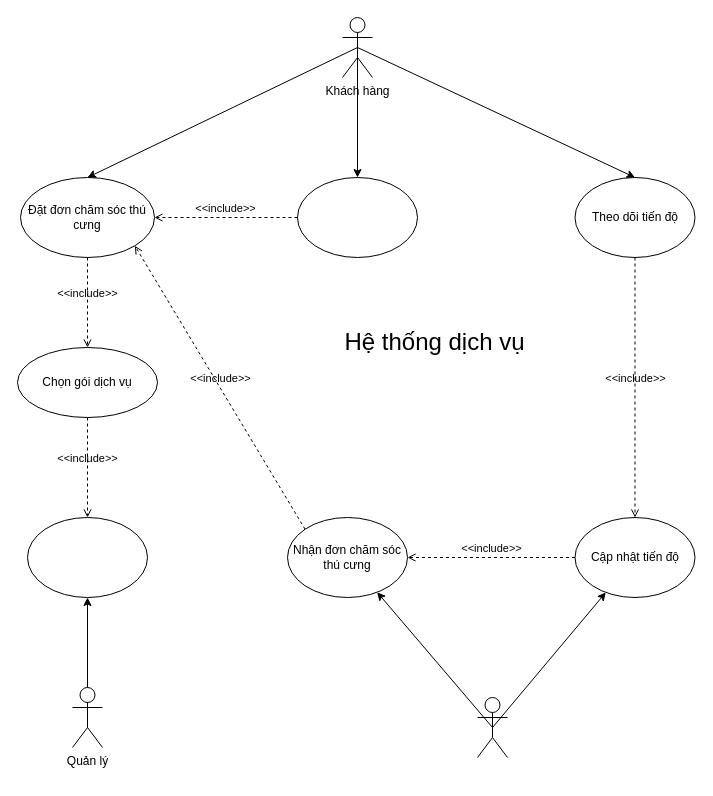
The diagram is 713 pixels wide and 796 high, and some of its shapes have lost their labels. The centre of each missing label's shape, as x and y in pixels:
"Nhân viên" goes at (x=492, y=727).
"Thanh toán dịch vụ" goes at (x=357, y=217).
"Đưa ra các dịch vụ" goes at (x=87, y=557).
